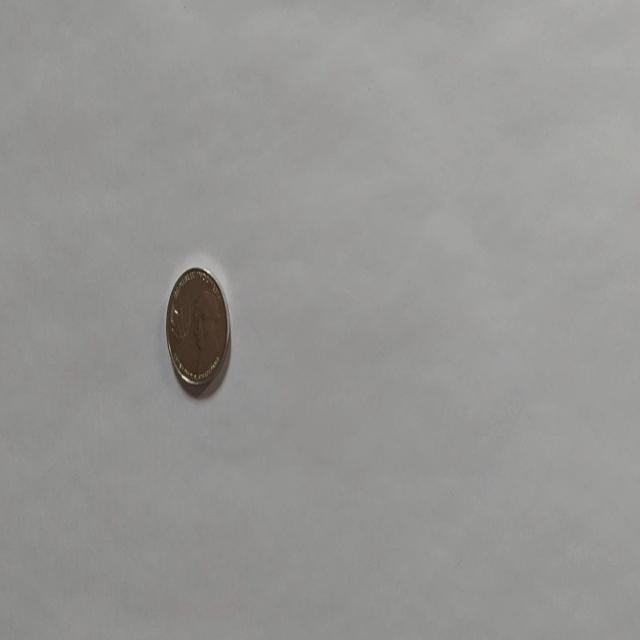lima ratus rupiah: (164, 264, 232, 390)
